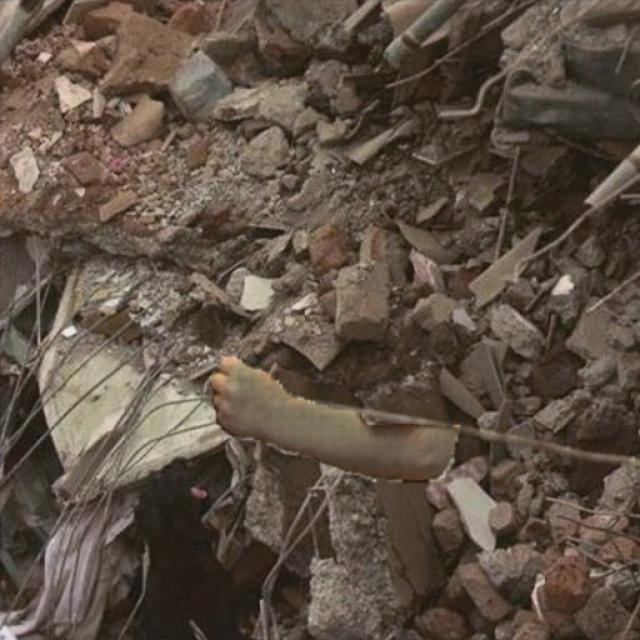Person in Rubble: (210, 355, 459, 481)
